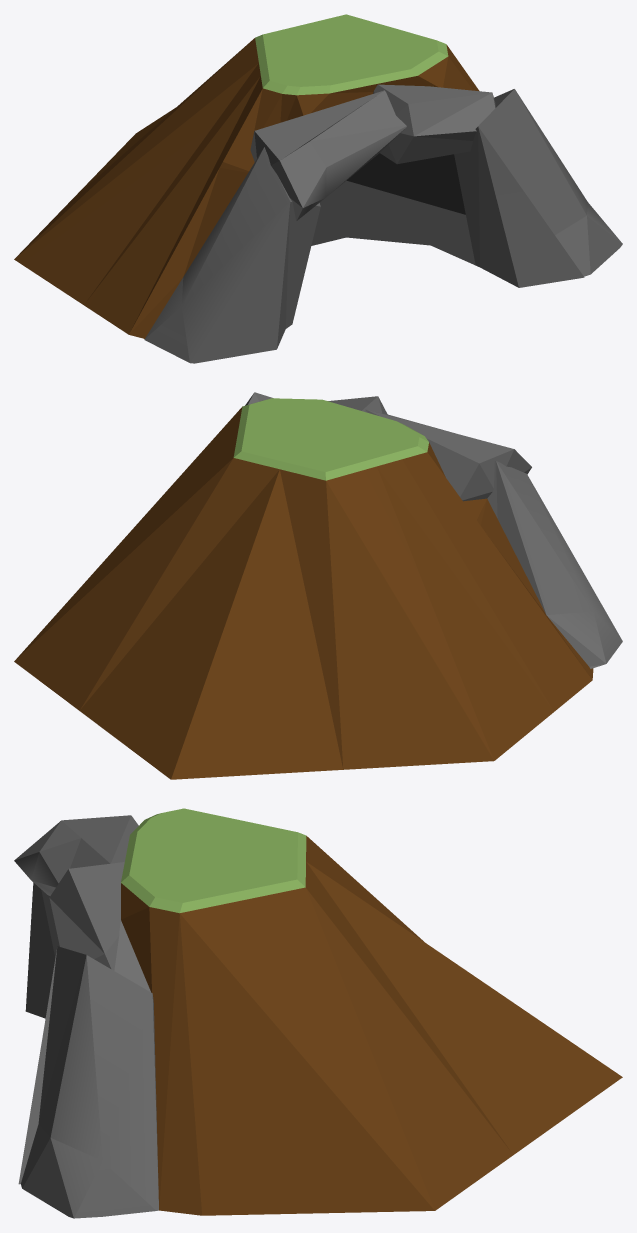
File: Terrain_Cave_Grass_01.fbx
The picture shows the model from 3 angles, top to bottom: view 1: azimuth 30°, elevation 25°; view 2: azimuth 150°, elevation 25°; view 3: azimuth 270°, elevation 25°; orthographic projection. The views are drawn at different scales.
Parts seen in each view (by area): view 1: Terrain_Cave_Grass_01; view 2: Terrain_Cave_Grass_01; view 3: Terrain_Cave_Grass_01.
Part boxes in pixels (<box>): Terrain_Cave_Grass_01: <box>14,14,622,363</box>; Terrain_Cave_Grass_01: <box>14,392,622,779</box>; Terrain_Cave_Grass_01: <box>14,808,622,1218</box>.
Size of the model in its own units: 14771 by 6118 by 14206.
